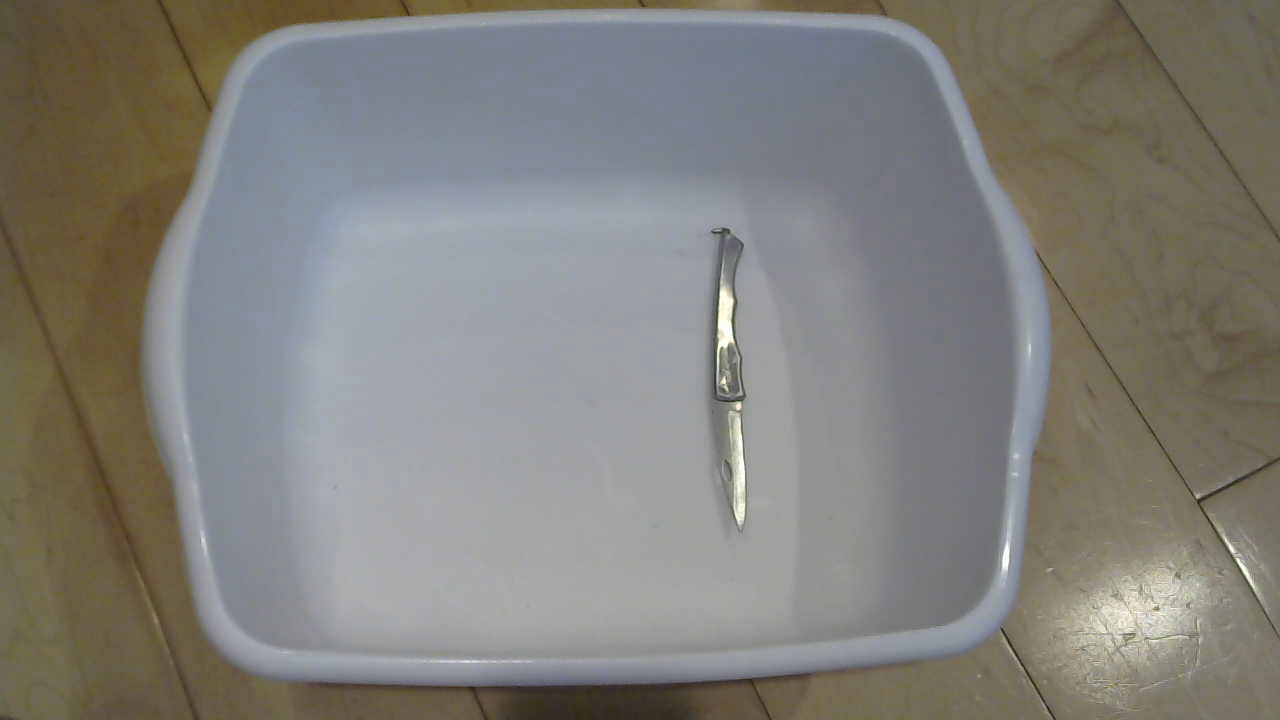knife: (695, 217, 771, 550)
